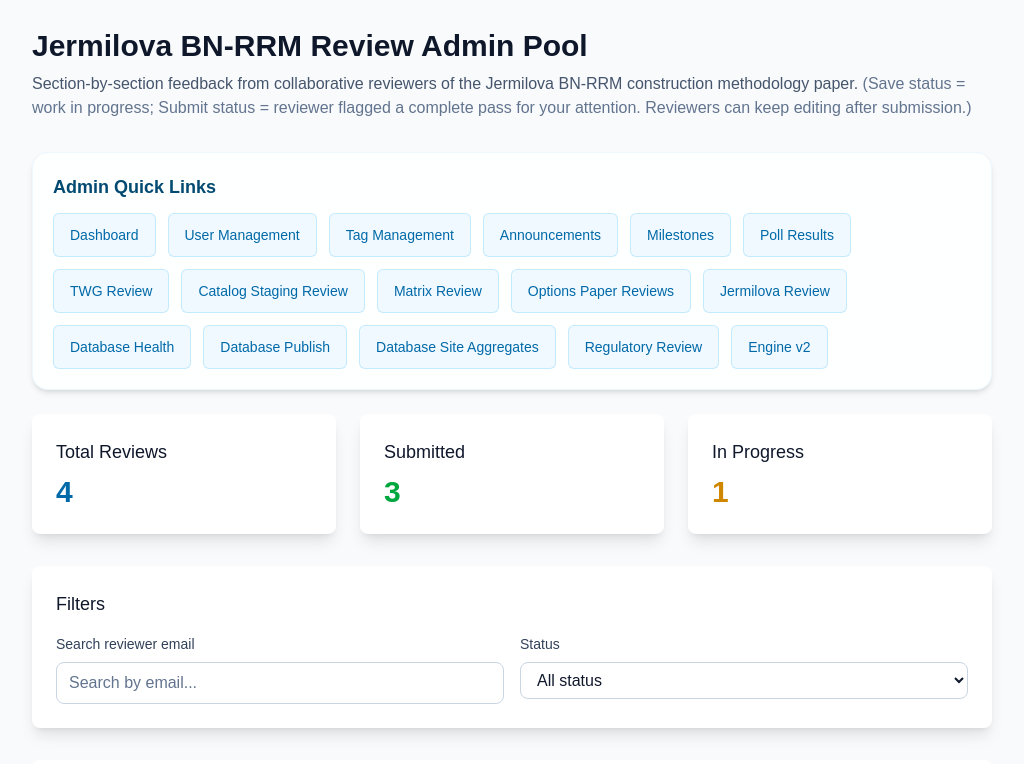
Test: JermilovaReviewClient › filters by status = IN_PROGRESS
Step 1. Select "In progress" in the dropdown with test id "jermilova-admin-status-filter" → (744, 680), box [520,662,968,699]
(page scrolled)
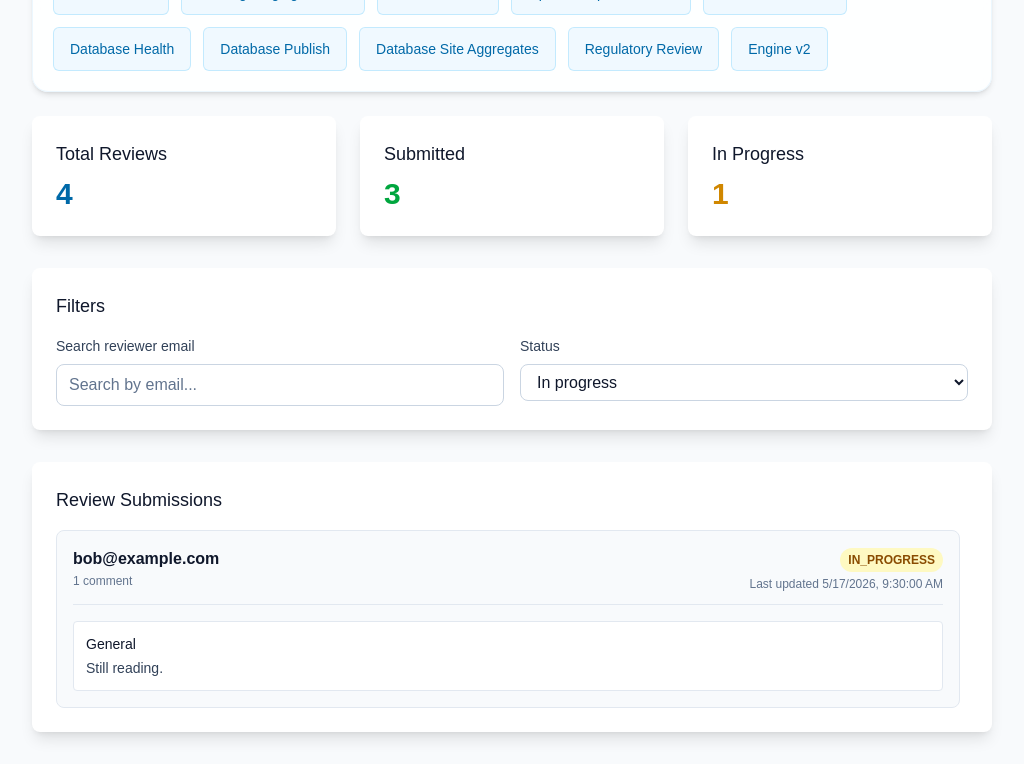
Expected: the heading "bob@example.com" is shown, [73,547,219,571]
Result: the number of elements with test id "jermilova-admin-review-row" is 1 at [56,530,960,708]
